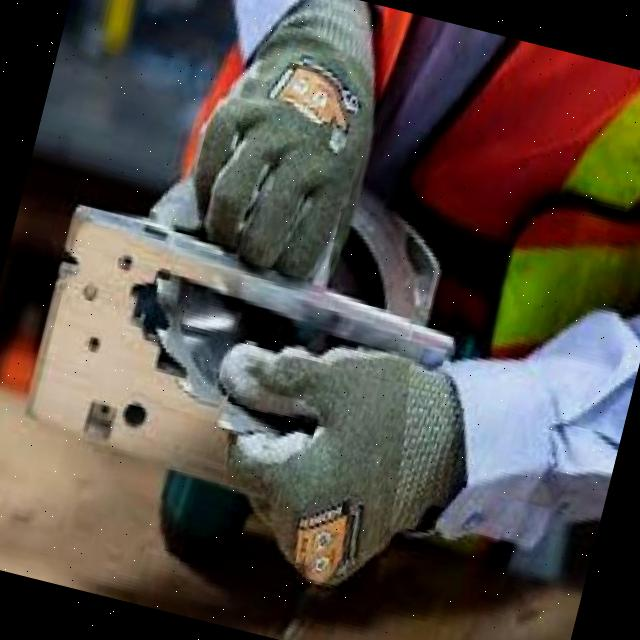vest: (312, 5, 640, 367)
